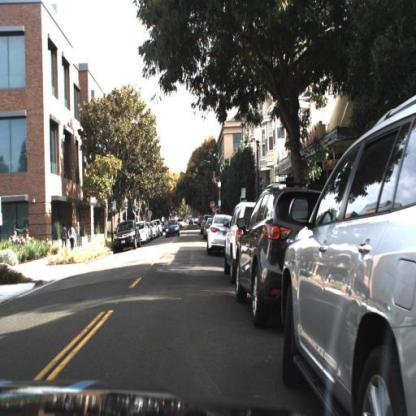car: (280, 100, 416, 416), (235, 181, 302, 325), (224, 200, 247, 281), (114, 218, 140, 254), (206, 212, 227, 255), (165, 217, 181, 242)
pedestrian: (59, 221, 69, 252), (68, 224, 76, 254)
